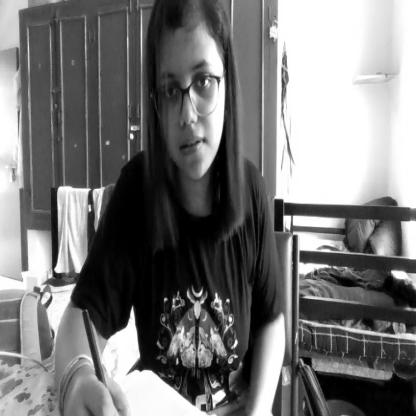Normal: (149, 0, 229, 186)
